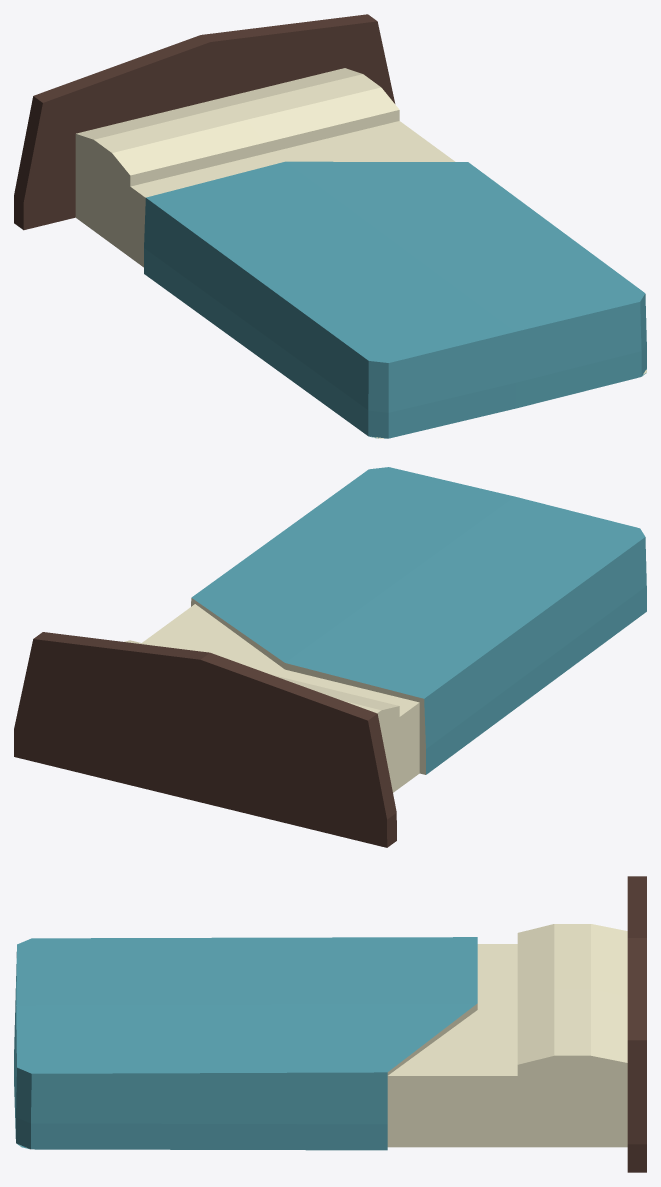
Rendered from Cama.fbx.
3 renders of one model, top to bottom at view 1: azimuth 30°, elevation 25°; view 2: azimuth 150°, elevation 25°; view 3: azimuth 270°, elevation 25°, orthographic.
Visible parts, largest first — view 1: Cube; view 2: Cube; view 3: Cube.
Part boxes in pixels (<box>): Cube: <box>14,14,646,438</box>; Cube: <box>14,467,646,847</box>; Cube: <box>14,876,646,1172</box>.
Size of the model in its own units: 996 by 364 by 1458.
